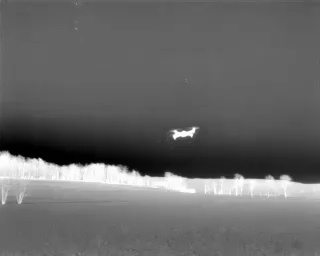DRONE: (164, 122, 203, 146)
